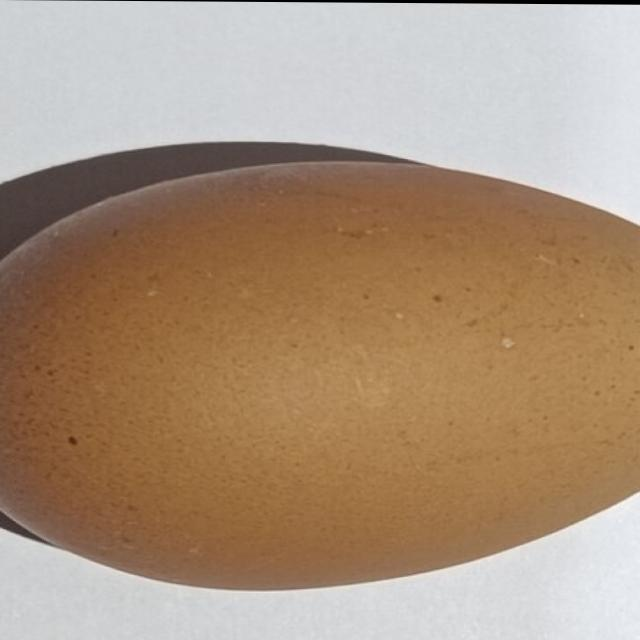unfresh: (0, 161, 640, 595)
